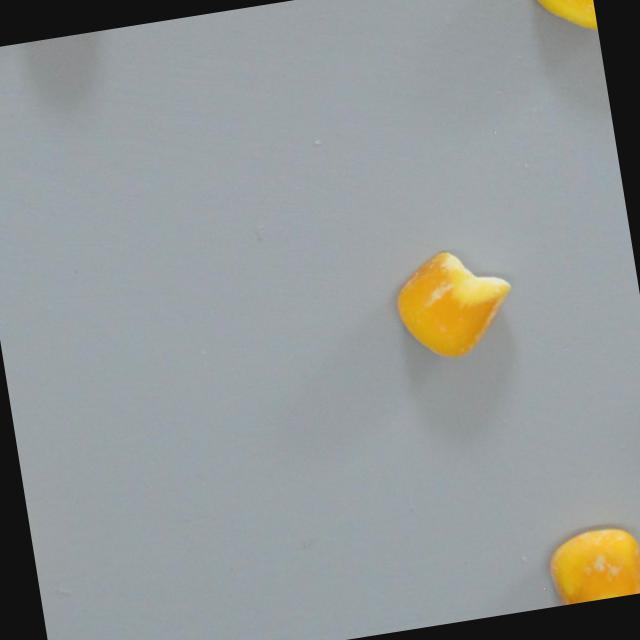no_canjicado: (532, 0, 598, 41)
pelicula: (390, 244, 521, 366), (543, 522, 640, 607)
